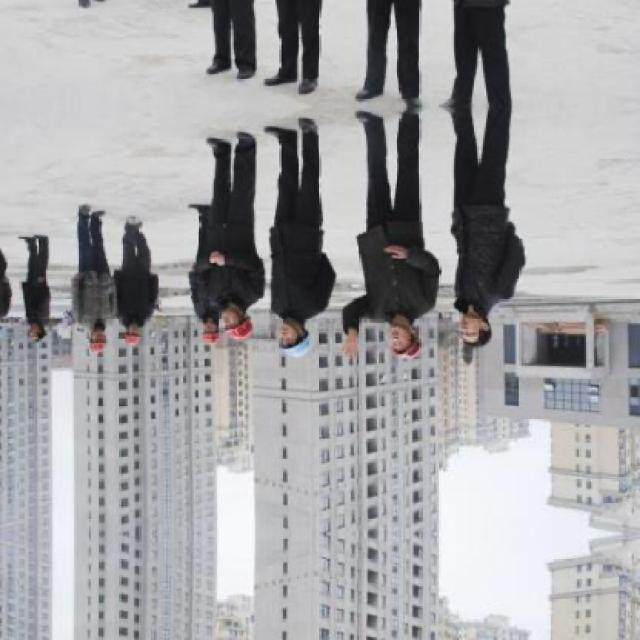con casco: (360, 313, 432, 374), (273, 325, 328, 380), (224, 321, 272, 347)
sin casco: (428, 311, 493, 358)
